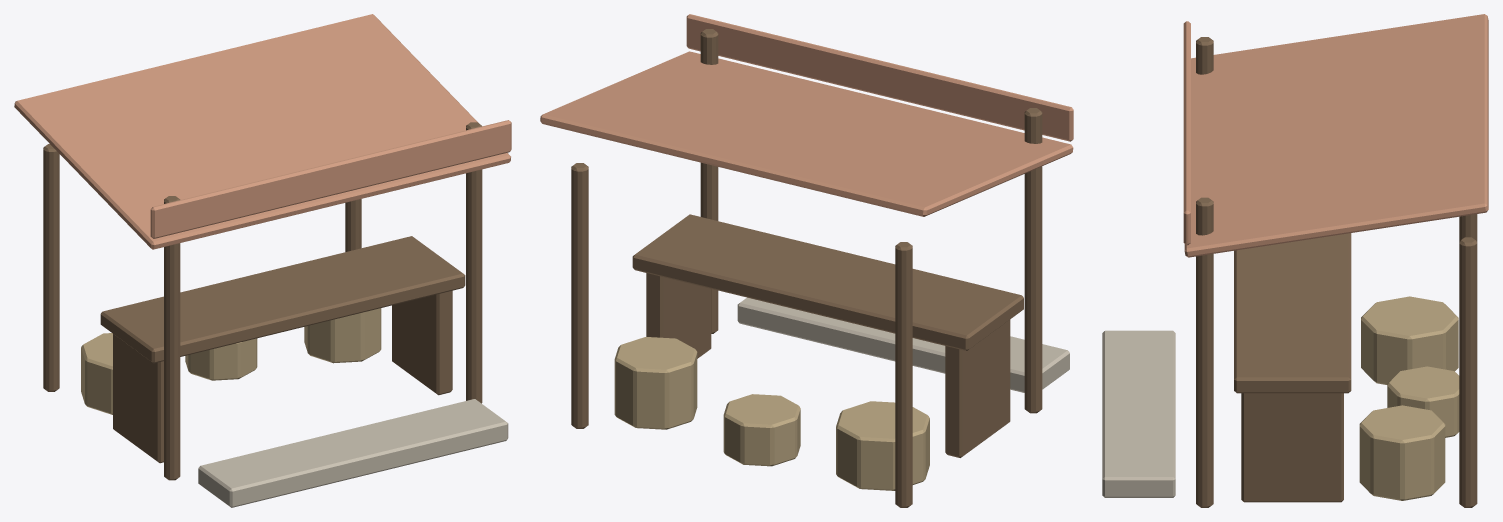
Rendered from TC_ENV_MarketStall_V1.glb.
3 renders of one model, left to right at view 1: azimuth 30°, elevation 25°; view 2: azimuth 150°, elevation 25°; view 3: azimuth 270°, elevation 25°, orthographic. The views are drawn at different scales.
Parts seen in each view (by area): view 1: TC_ENV_MarketStall_V1; view 2: TC_ENV_MarketStall_V1; view 3: TC_ENV_MarketStall_V1.
Part boxes in pixels (<box>): TC_ENV_MarketStall_V1: <box>14,14,511,507</box>; TC_ENV_MarketStall_V1: <box>540,14,1073,507</box>; TC_ENV_MarketStall_V1: <box>1102,14,1488,507</box>.
Bounding box in the file's own units: 3.1 × 2.38 × 2.64.
